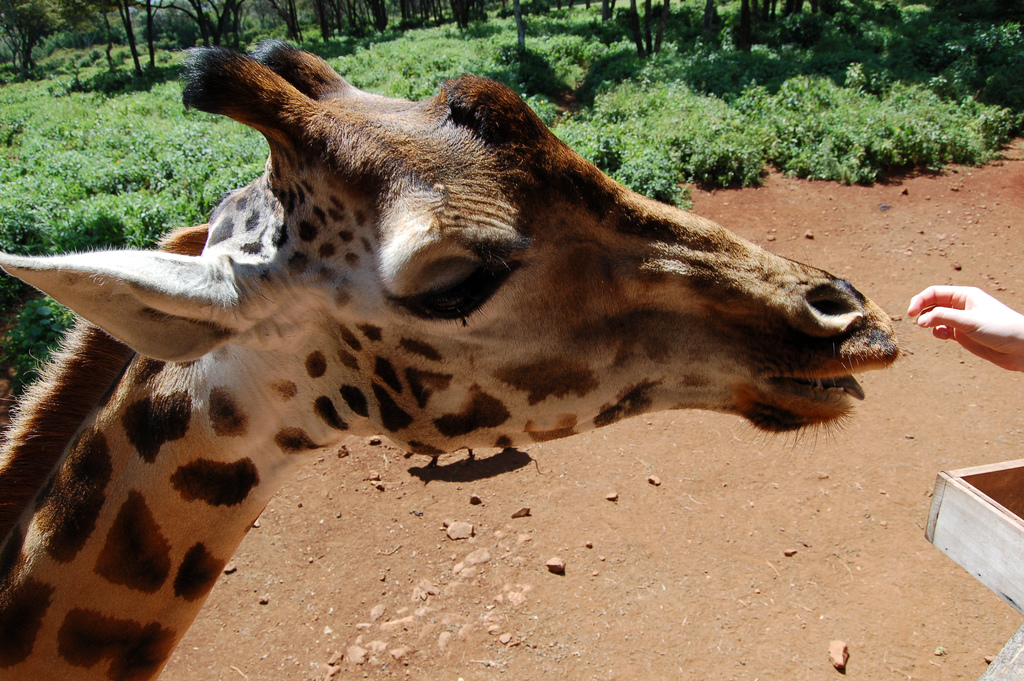giraffe: (30, 50, 909, 592)
